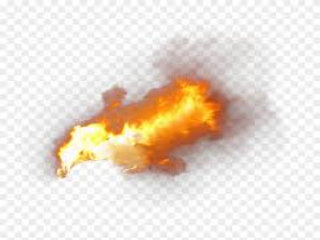fire: (46, 73, 236, 182)
